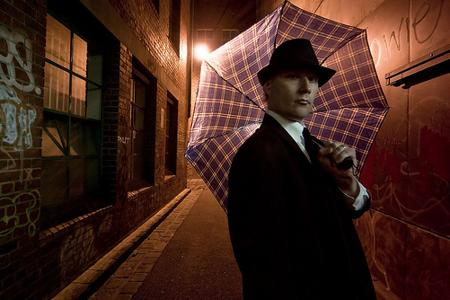person: (227, 39, 377, 300)
